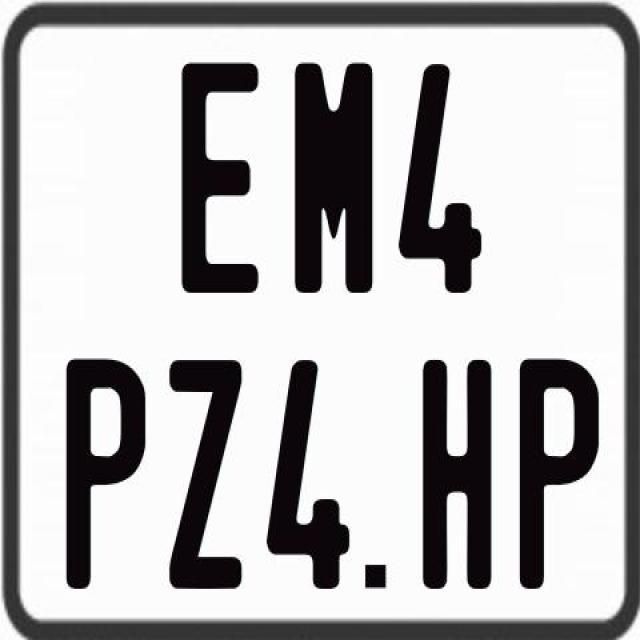4: (398, 63, 482, 300), (264, 355, 348, 584)
E: (180, 59, 264, 296)
H: (422, 357, 494, 592)
M: (293, 59, 375, 291)
P: (518, 355, 602, 586), (66, 353, 146, 592)
Z: (165, 357, 239, 590)
